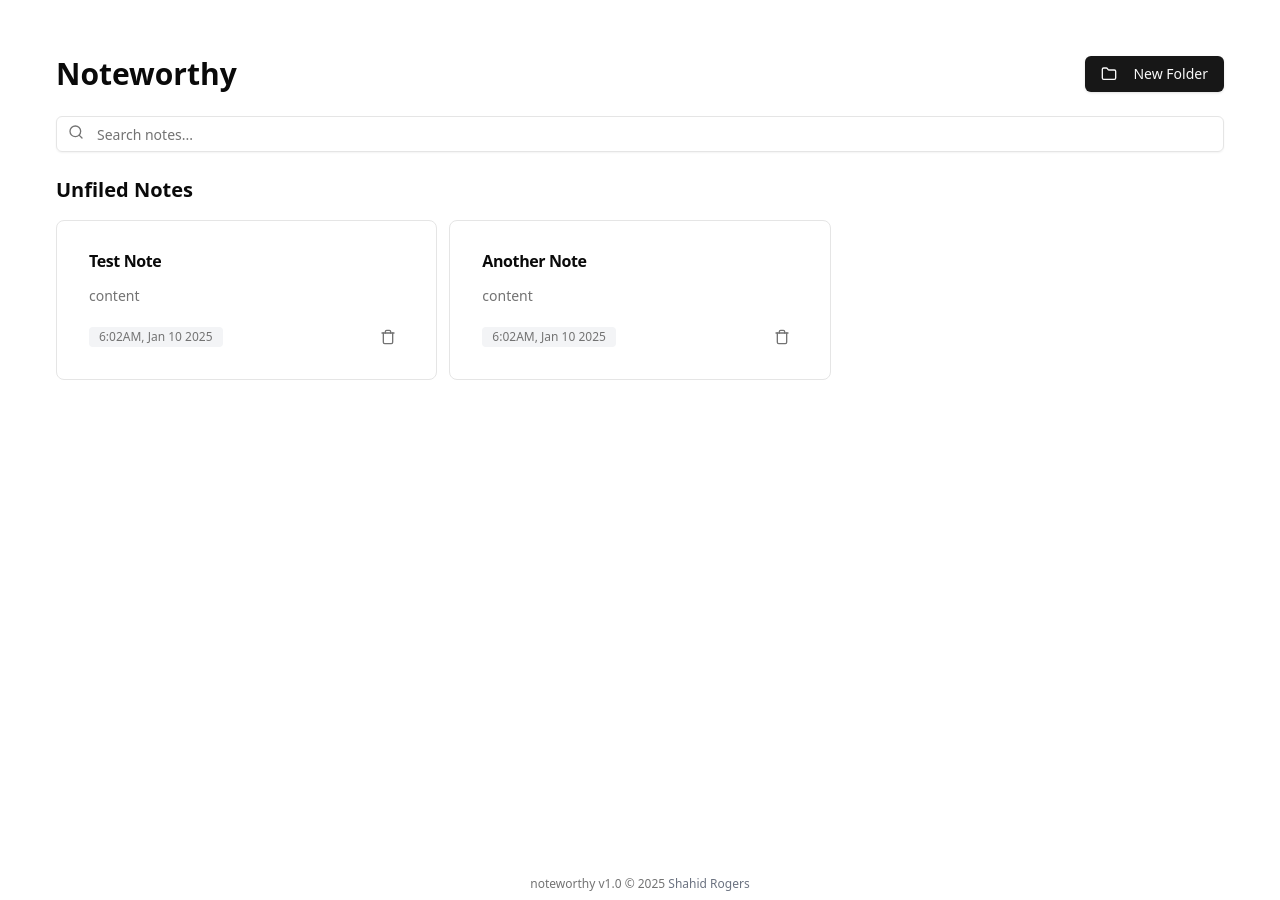
Scenario: Dashboard › should filter notes based on search query
This screenshot has width=1280, height=900.
Type "Test" into the field with placeholder "Search notes...". click: (640, 134)
box: [56,116,1224,152]
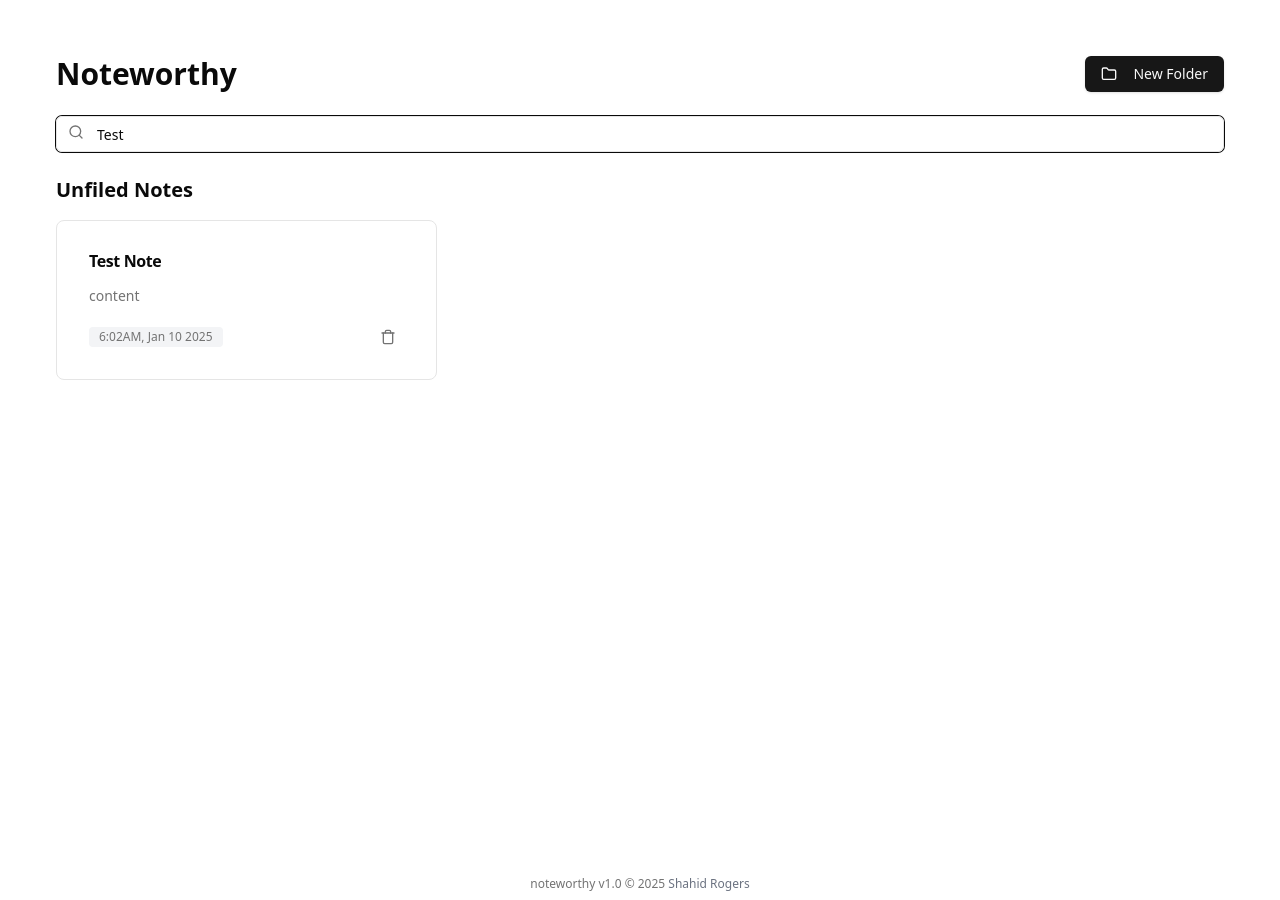
Check: the text "Test Note" is shown, box [89,250,161,272]
Check: the text "Another Note" is gone
